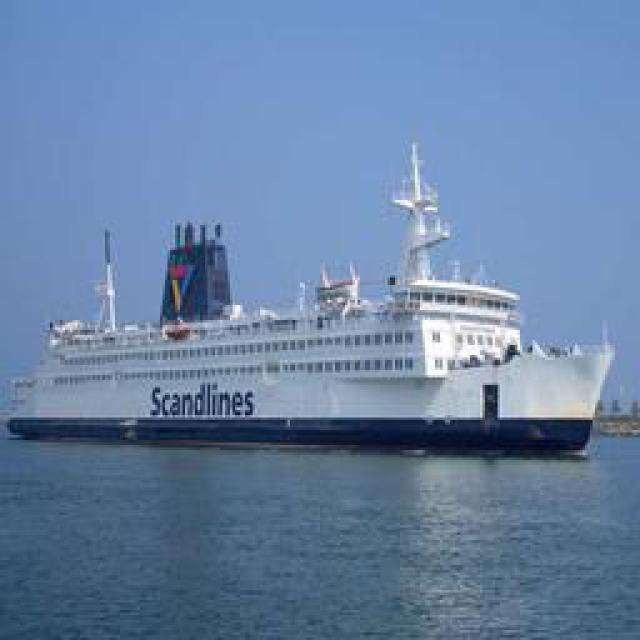Ship: (11, 138, 604, 446)
